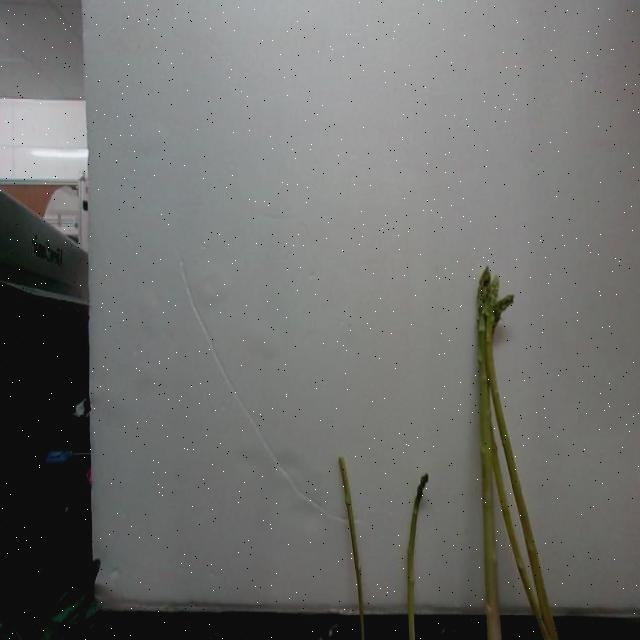aspargus: (478, 265, 506, 640)
